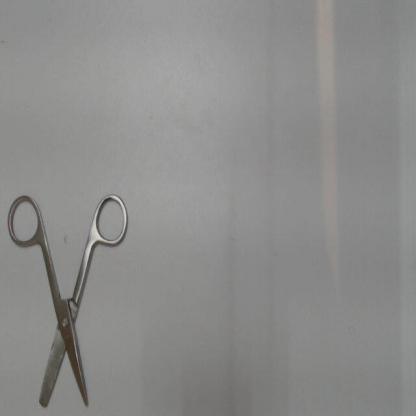Dressing Scissors: (3, 182, 135, 415)
